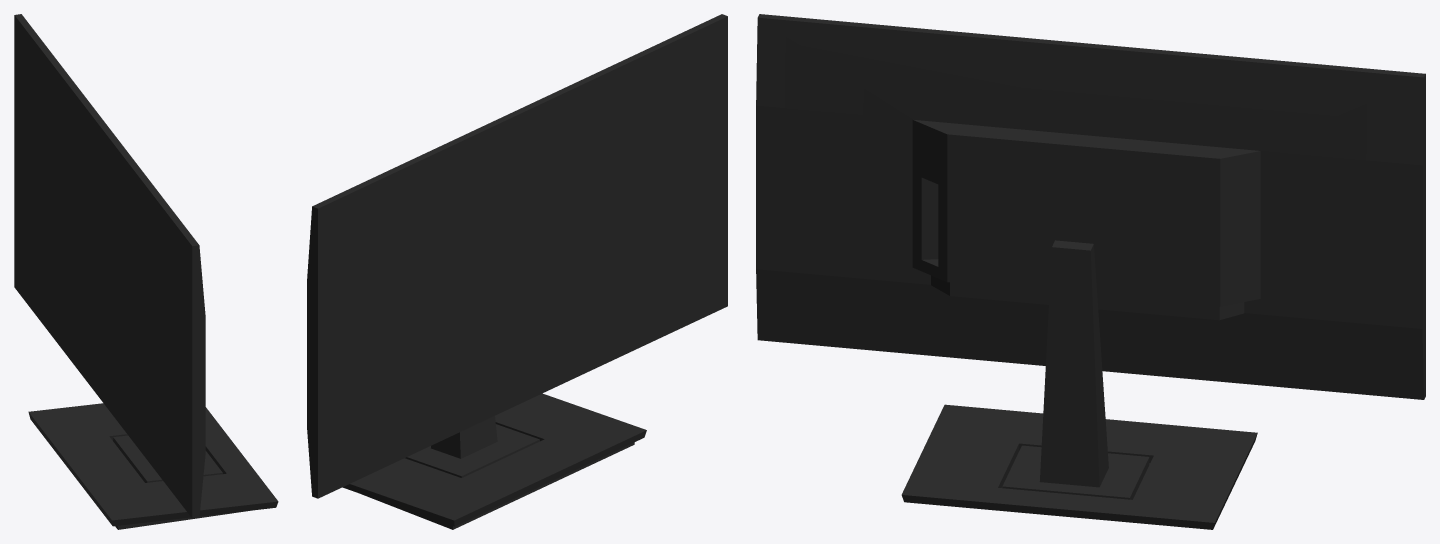
The model's file is Pantalla.obj.
3 renders of one model, left to right at view 1: azimuth 30°, elevation 25°; view 2: azimuth 150°, elevation 25°; view 3: azimuth 270°, elevation 25°, orthographic. The views are drawn at different scales.
Visible parts, largest first — view 1: SketchUp; view 2: SketchUp; view 3: SketchUp.
Boxes of the visible parts, left/top/right/bottom form: SketchUp: left=14, top=14, right=278, bottom=529; SketchUp: left=307, top=14, right=727, bottom=529; SketchUp: left=756, top=14, right=1425, bottom=529.
Size of the model in its own units: 0.7855 by 1.31 by 1.95.
1 material, 1 textured.
